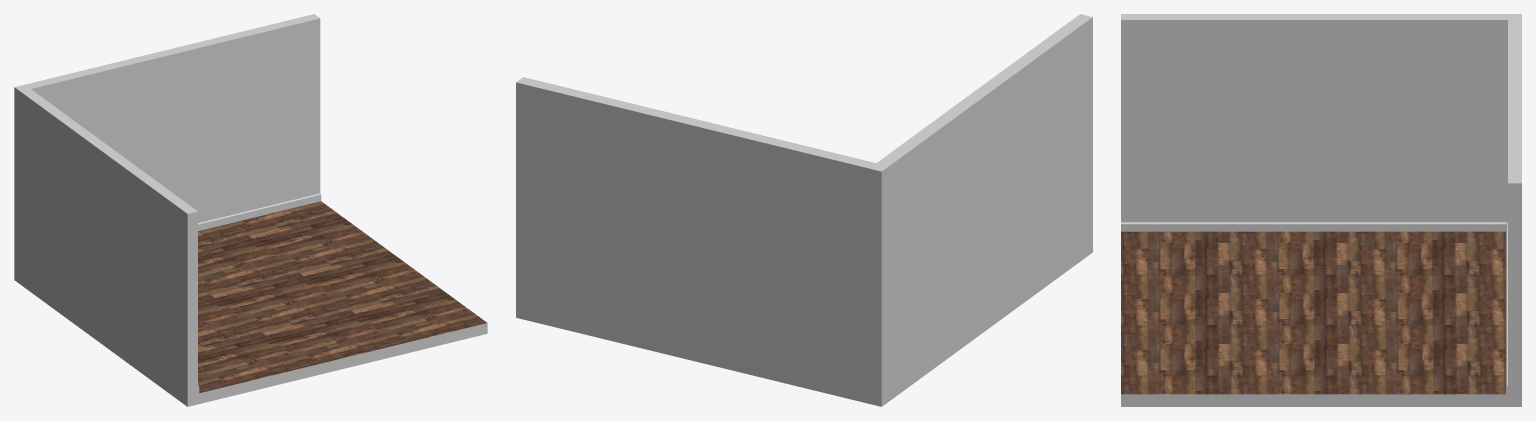
File: room.glb
The picture shows the model from 3 angles, left to right: view 1: azimuth 30°, elevation 25°; view 2: azimuth 150°, elevation 25°; view 3: azimuth 270°, elevation 25°; orthographic projection. The views are drawn at different scales.
Parts seen in each view (by area): view 1: Room - Cube; view 2: Room - Cube; view 3: Room - Cube.
Part boxes in pixels (left/top/right/bottom): Room - Cube: left=14, top=14, right=487, bottom=406; Room - Cube: left=516, top=14, right=1092, bottom=406; Room - Cube: left=1121, top=14, right=1521, bottom=406.
Bounding box in the file's own units: 8 × 4.92 × 8.
2 materials, 1 textured.
